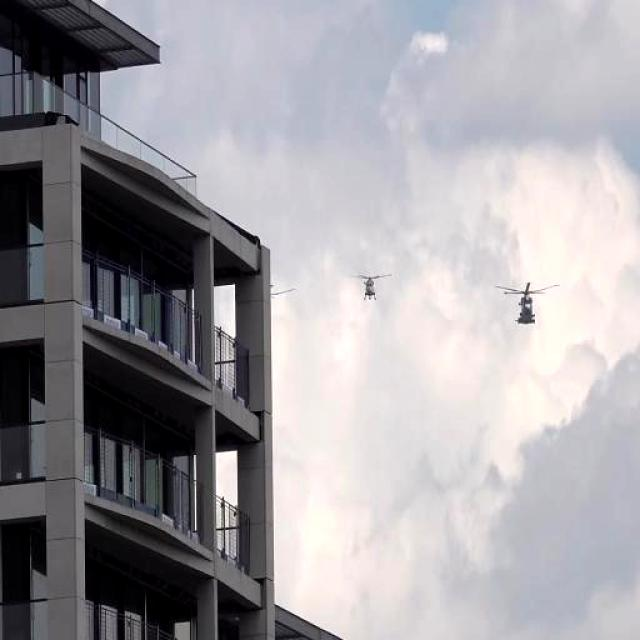drone: (492, 281, 561, 328), (348, 271, 392, 302)
